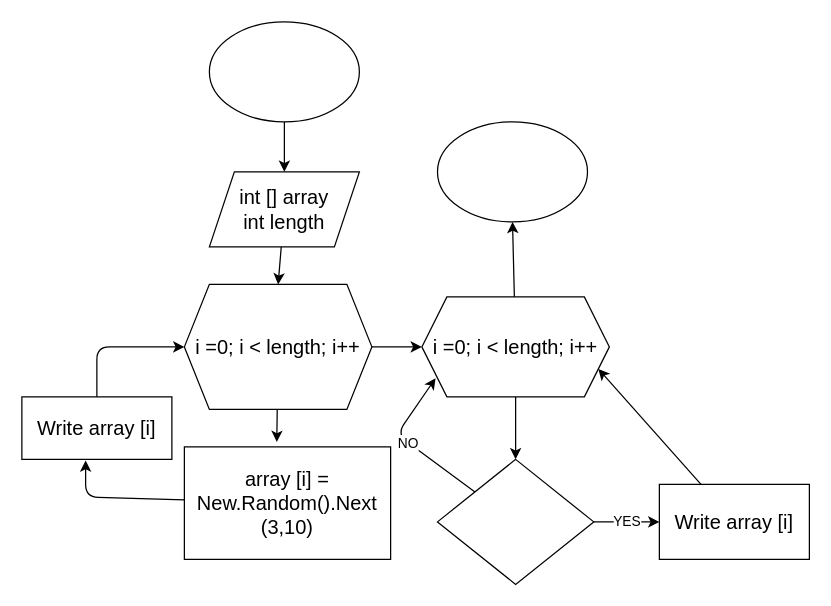
Image size: 831x606. Some labels were removed from this diagram. The box of each missing label's shape, as (x1, y1, x2, y2) in pixels:
array [i] > 8: (436, 458, 594, 584)
finish: (436, 121, 588, 222)
start: (208, 21, 359, 122)
